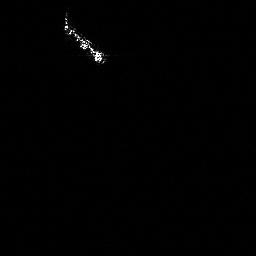ship: (64, 25, 104, 63)
